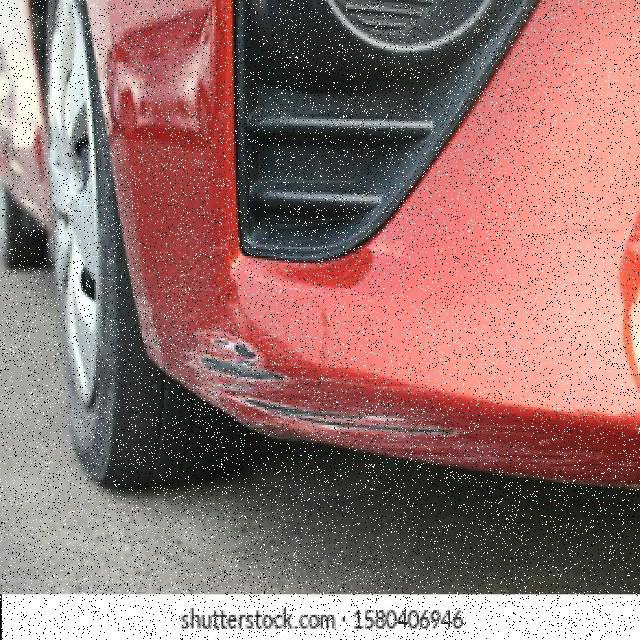front-bumper-dent: (57, 172, 638, 467)
